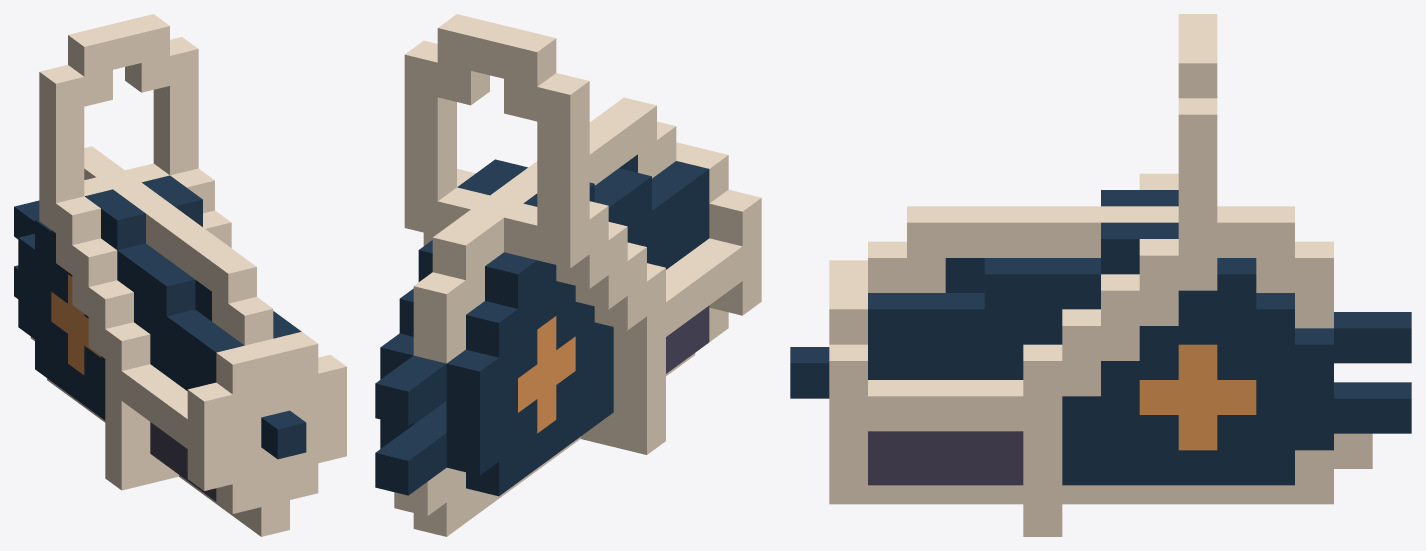
The model's file is laser1.obj.
3 renders of one model, left to right at view 1: azimuth 30°, elevation 25°; view 2: azimuth 150°, elevation 25°; view 3: azimuth 270°, elevation 25°, orthographic. The views are drawn at different scales.
Size of the model in its own units: 0.5 by 1.3 by 1.6.
1 material, 1 textured.
